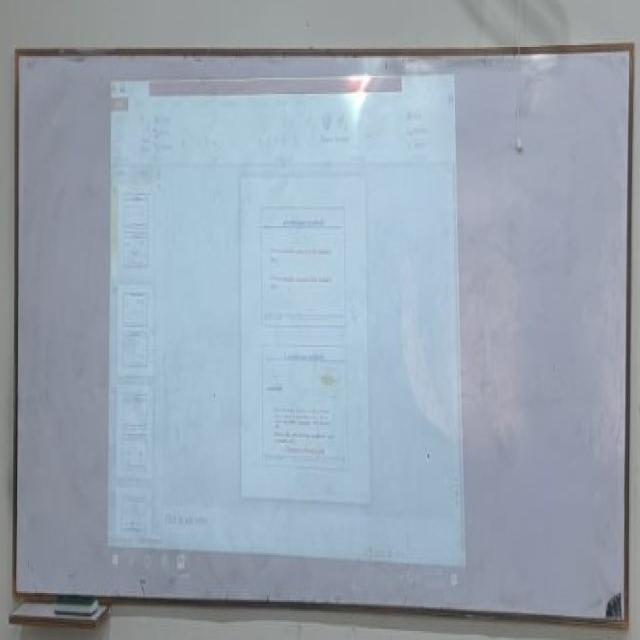Slide: (107, 71, 466, 603)
White-board: (12, 52, 632, 628)
